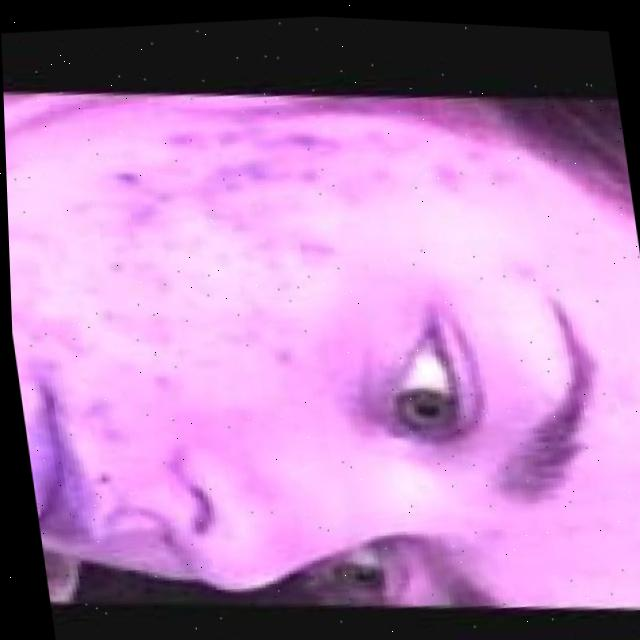Acne: (48, 87, 501, 406)
